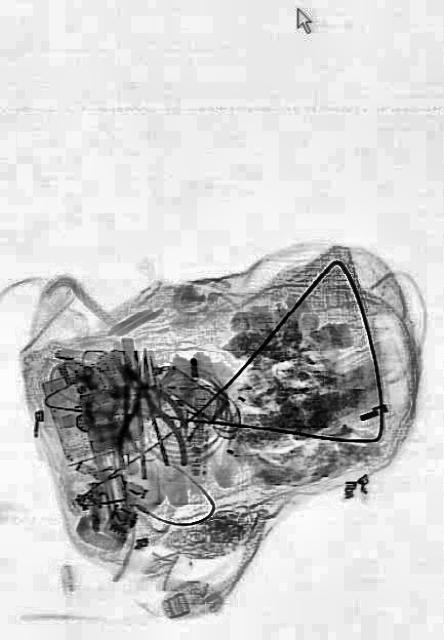Pliers: (96, 330, 188, 462), (114, 345, 184, 467)
